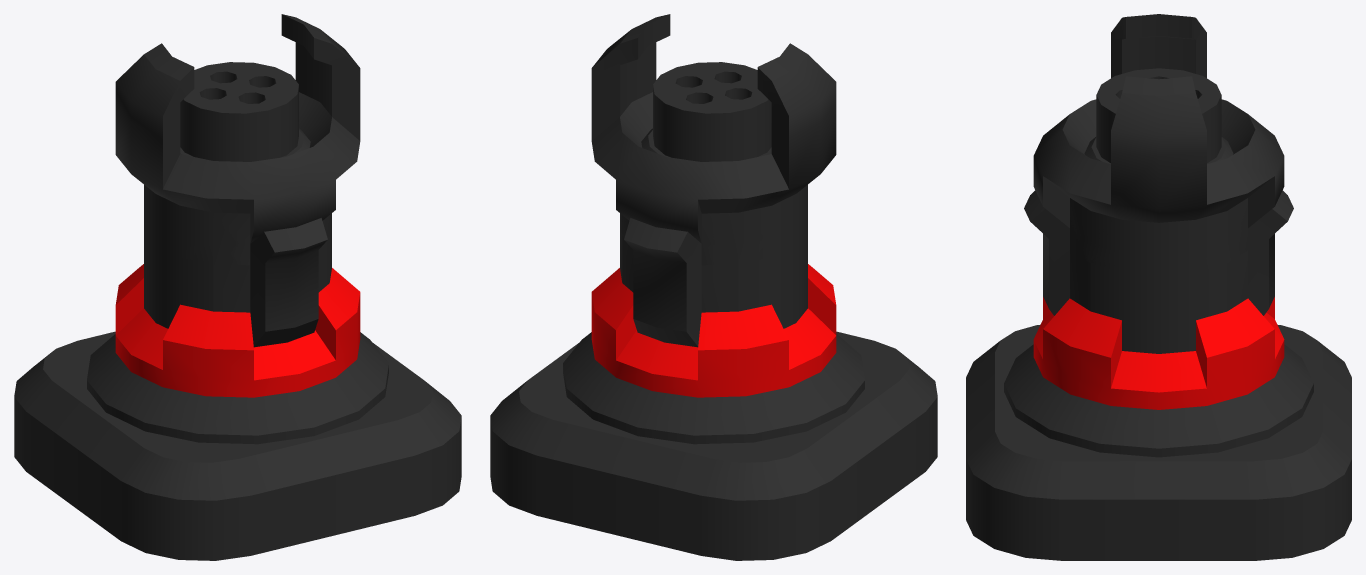
File: Cableheads V1.fbx
3 renders of one model, left to right at view 1: azimuth 30°, elevation 25°; view 2: azimuth 150°, elevation 25°; view 3: azimuth 270°, elevation 25°, orthographic.
Visible parts, largest first — view 1: Cablehead Wall Female V1, Cablehead Female V1, Cablehead Wall Female V1 Color Mark, Cablehead Male V1; view 2: Cablehead Wall Female V1, Cablehead Female V1, Cablehead Wall Female V1 Color Mark, Cablehead Male V1; view 3: Cablehead Wall Female V1, Cablehead Female V1, Cablehead Wall Female V1 Color Mark, Cablehead Male V1.
Boxes of the visible parts, bbox=[...] form: Cablehead Wall Female V1: bbox=[14, 331, 461, 560]; Cablehead Female V1: bbox=[115, 14, 360, 328]; Cablehead Wall Female V1 Color Mark: bbox=[115, 264, 360, 397]; Cablehead Male V1: bbox=[150, 128, 329, 347]; Cablehead Wall Female V1: bbox=[490, 331, 937, 560]; Cablehead Female V1: bbox=[591, 14, 836, 328]; Cablehead Wall Female V1 Color Mark: bbox=[591, 264, 836, 397]; Cablehead Male V1: bbox=[620, 128, 801, 347]; Cablehead Wall Female V1: bbox=[966, 324, 1351, 560]; Cablehead Female V1: bbox=[1033, 14, 1284, 353]; Cablehead Wall Female V1 Color Mark: bbox=[1033, 297, 1284, 409]; Cablehead Male V1: bbox=[1024, 137, 1293, 353].
Bounding box in the file's own units: 4 × 4.95 × 4.
